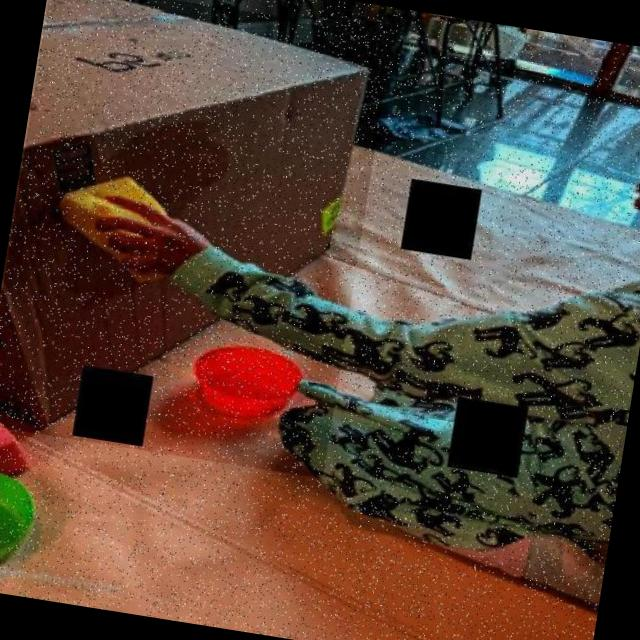box: (0, 0, 393, 479)
